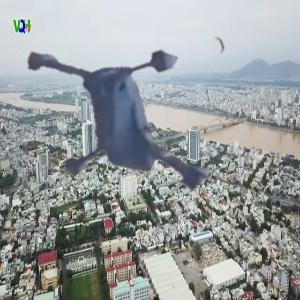drone: (34, 9, 270, 245)
